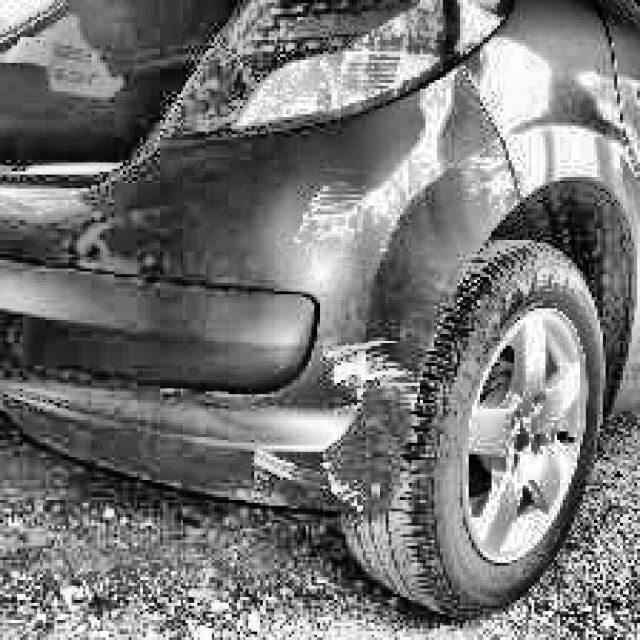bumper_scratch: (256, 442, 376, 520), (322, 334, 416, 410), (295, 180, 371, 250)
